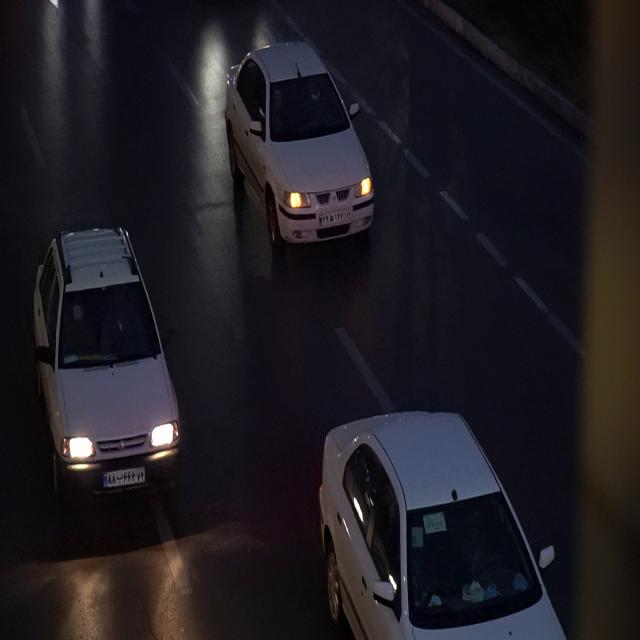car: (318, 405, 566, 640), (31, 224, 185, 503), (224, 35, 376, 261)
